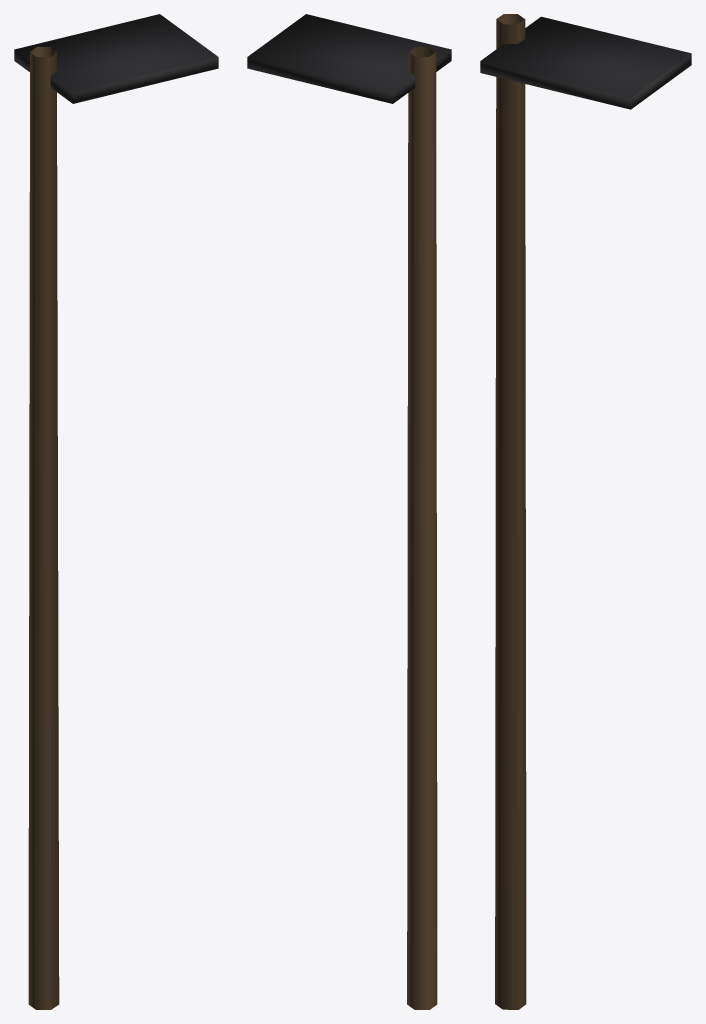
Rendered from zappa.glb.
3 views of the same model, side by side, from view 1: azimuth 30°, elevation 25°; view 2: azimuth 150°, elevation 25°; view 3: azimuth 330°, elevation 25° (orthographic). The views are drawn at different scales.
Visible parts, largest first — view 1: zappa; view 2: zappa; view 3: zappa.
Boxes of the visible parts, x1,y1,x2,y2 form: zappa: (14,14,218,1009); zappa: (247,14,451,1009); zappa: (480,14,691,1009).
Size of the model in its own units: 0.2156 by 1.25 by 0.14.
